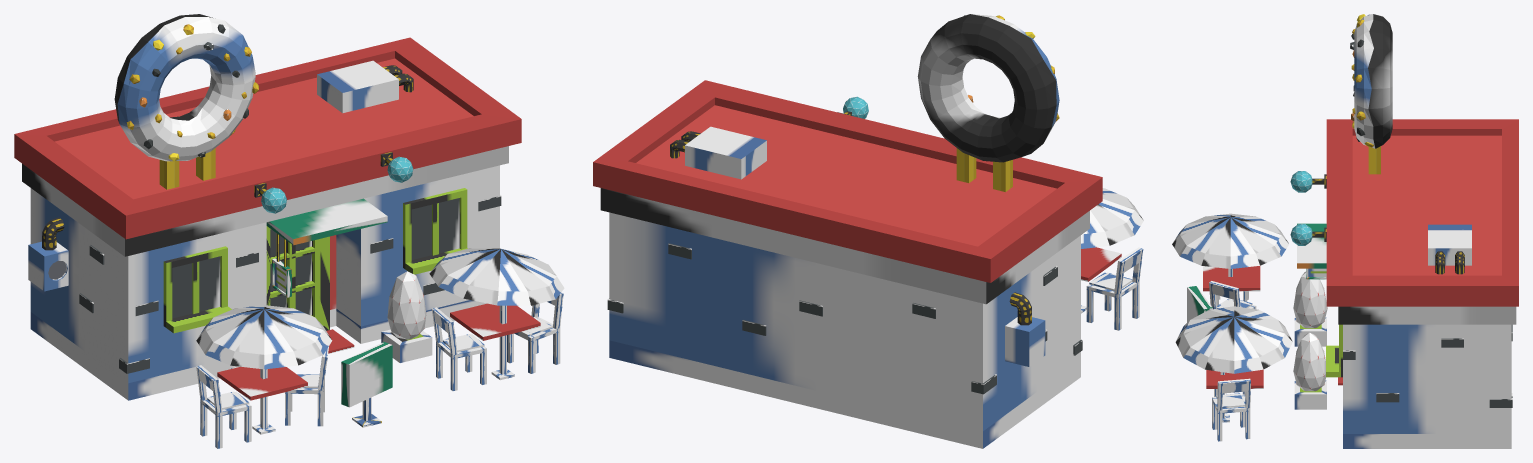
File: Coffee_Shop.FBX
The picture shows the model from 3 angles, left to right: view 1: azimuth 30°, elevation 25°; view 2: azimuth 150°, elevation 25°; view 3: azimuth 270°, elevation 25°; orthographic projection. The views are drawn at different scales.
Parts seen in each view (by area): view 1: Coffee_Shop; view 2: Coffee_Shop; view 3: Coffee_Shop.
Boxes of the visible parts, x1,y1,x2,y2 form: Coffee_Shop: [14, 14, 564, 448]; Coffee_Shop: [593, 14, 1143, 448]; Coffee_Shop: [1172, 14, 1518, 448].
Bounding box in the file's own units: 1854 × 1537 × 1583.
